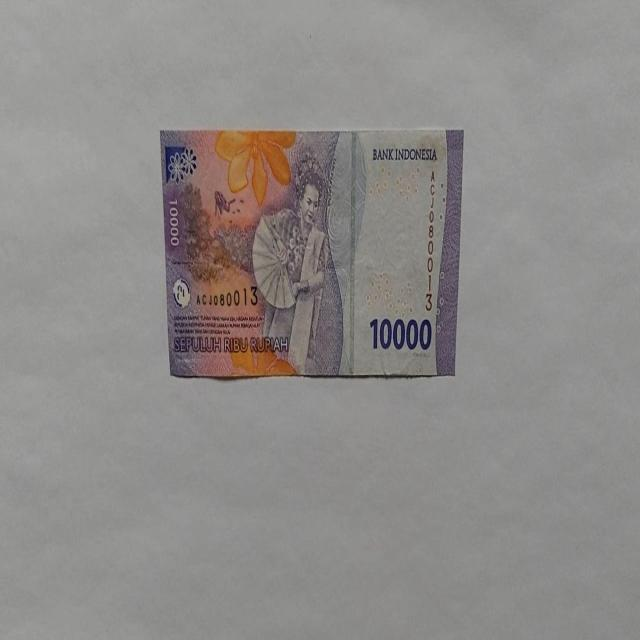Kertas: (159, 127, 463, 380), (369, 315, 433, 352)
